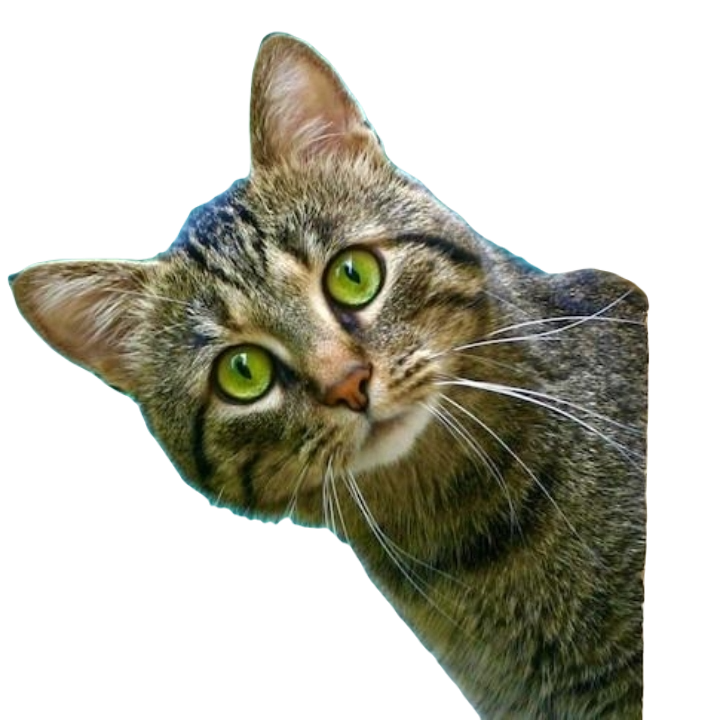Cat: (5, 23, 646, 719)
